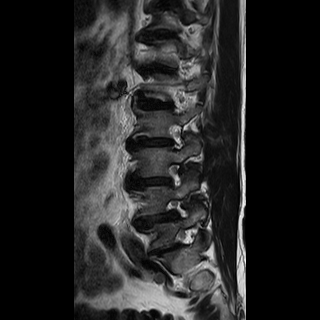LFS0: (162, 193, 195, 221), (161, 158, 186, 191)
